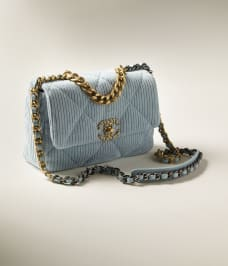channel: (19, 66, 203, 188), (21, 85, 46, 176), (71, 74, 130, 106), (93, 113, 135, 145)
